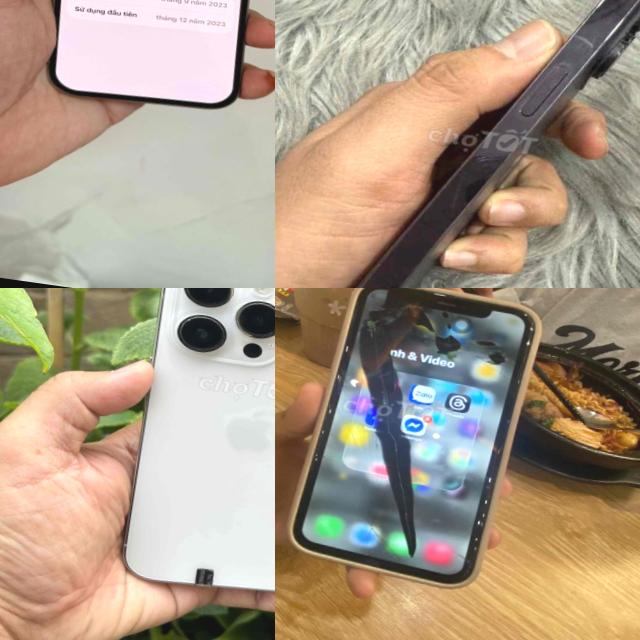gen_11: (290, 288, 539, 586)
gen_14: (356, 0, 640, 288), (99, 288, 275, 629)
gen_15: (6, 0, 275, 126)
physical_damage: (283, 288, 510, 576)
scratch: (293, 258, 363, 288)
screen_defect: (299, 288, 521, 581)
